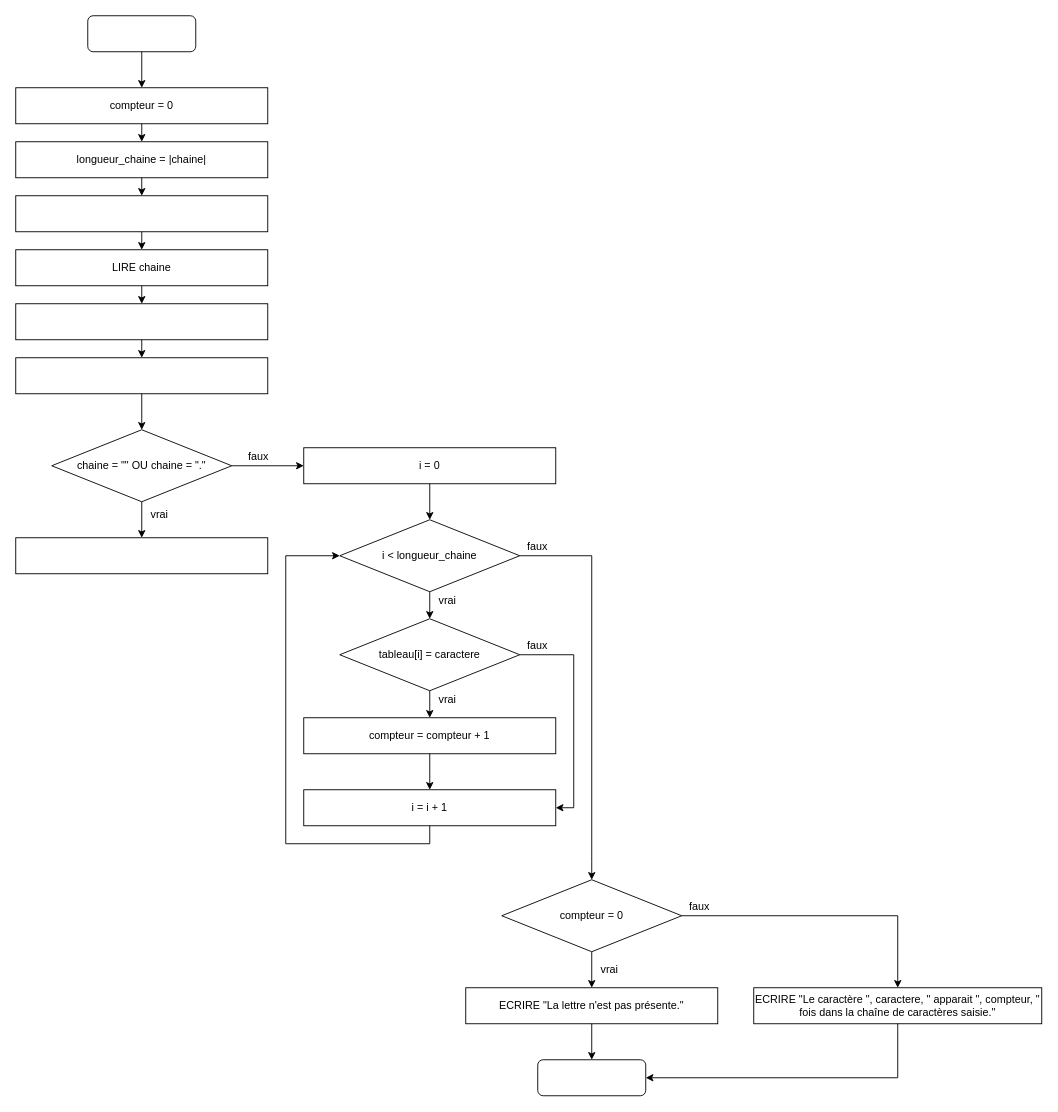
Image size: 1058x1112. Some labels were removed from this diagram. The centre of each missing label's shape, as x and y in pixels:
DEBUT: [141,33]
ECRIRE "La chaine est vide": [141,555]
ECRIRE "Veuillez saisir un caractère : ": [141,321]
ECRIRE "Veuillez saisir votre phrase : ": [141,213]
FIN: [591,1077]
LIRE caractere: [141,375]
